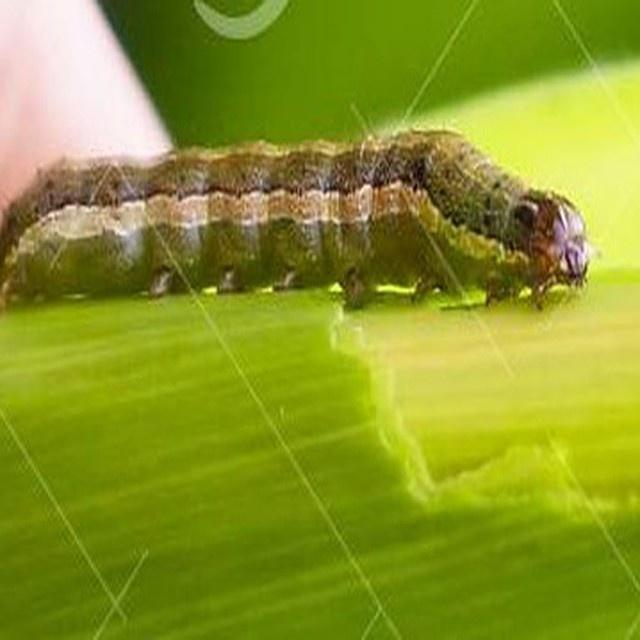gusano_cogollero: (6, 126, 586, 306)
